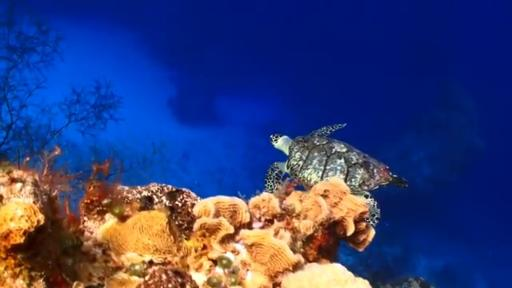Fish: (265, 124, 407, 224)
